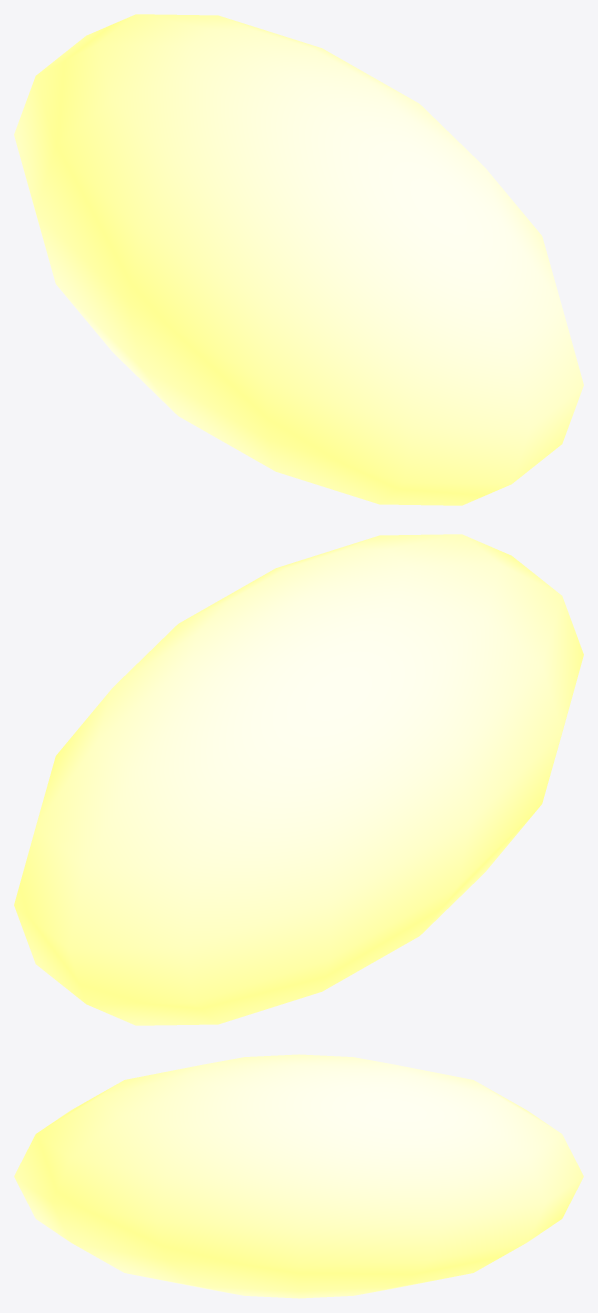
The model's file is tank_shell.glb.
The picture shows the model from 3 angles, top to bottom: view 1: azimuth 30°, elevation 25°; view 2: azimuth 150°, elevation 25°; view 3: azimuth 270°, elevation 25°; orthographic projection. The views are drawn at different scales.
Visible parts, largest first — view 1: Prop_tank_shell; view 2: Prop_tank_shell; view 3: Prop_tank_shell.
Boxes of the visible parts, x1,y1,x2,y2 form: Prop_tank_shell: (14,14,583,505); Prop_tank_shell: (14,534,583,1025); Prop_tank_shell: (14,1054,583,1298).
Bounding box in the file's own units: 0.36 × 0.36 × 0.84.
